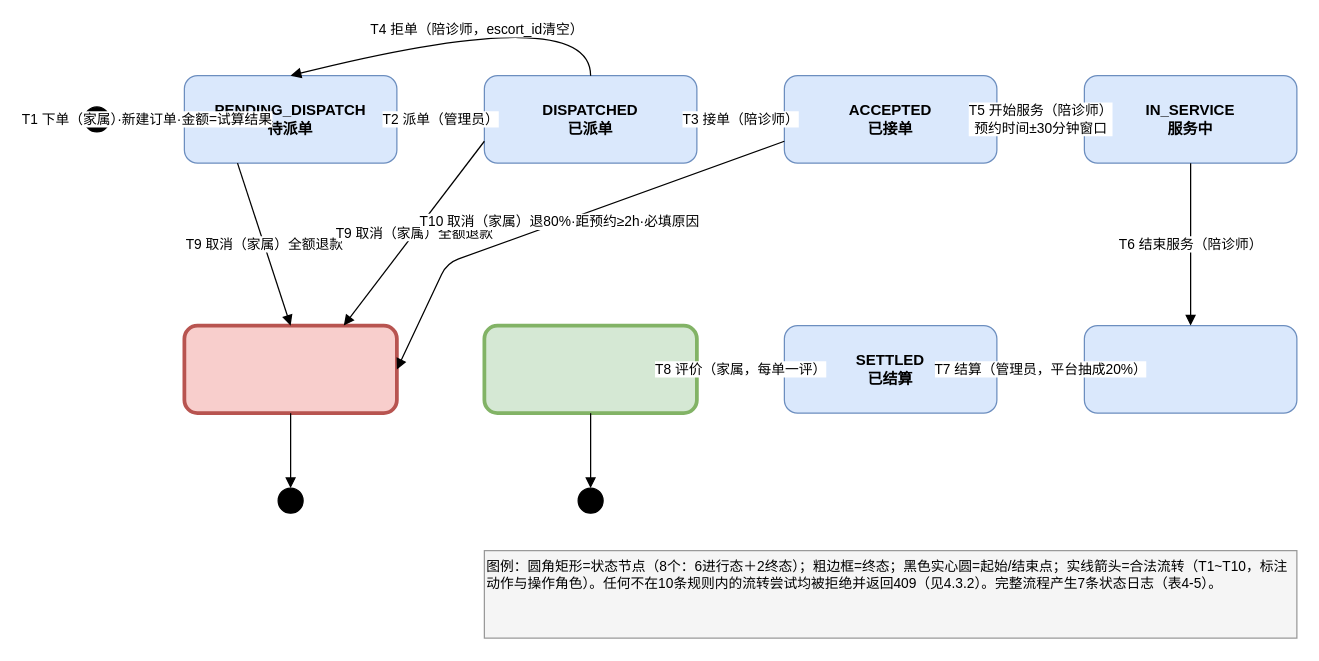
This 1319x661 diagram has some shape labels left out. The shapes that lost their labels are listed below. From the top down, each one's box as (x1, y1, x2, y2) in pixels, then its label:
(182, 323, 398, 414): CANCELLED 已取消（终态）
(482, 323, 698, 414): COMPLETED 已完成（终态）
(1083, 324, 1297, 413): SERVICE_FINISHED 已结束
